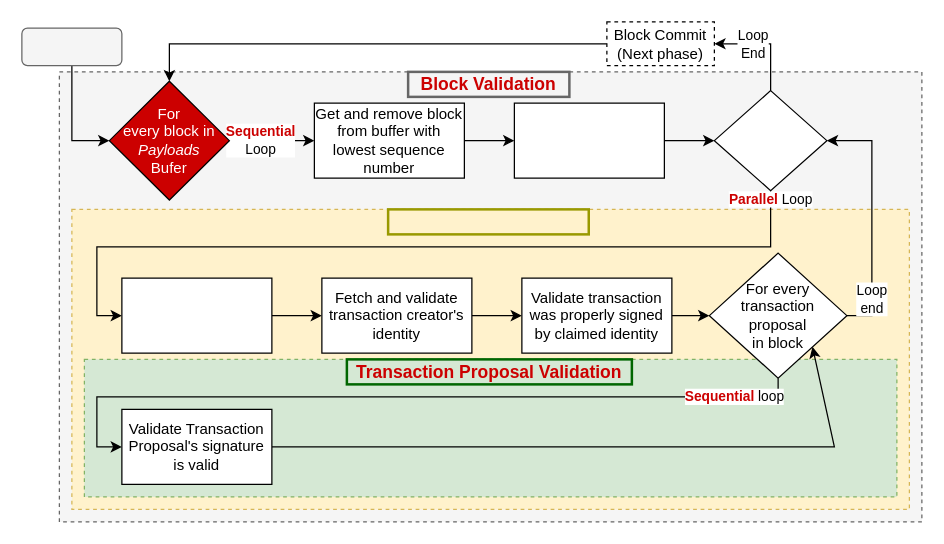
Some shapes in this 944 by 544 pixel diagram are drawn without their labels. The centre of each missing label's shape, as x and y in pixels:
For every transaction in block...: the point at 770,140
Peer joins channel: the point at 71,46
Transaction Validation: the point at 487,221
Unmarshal transaction and verify structure is valid: the point at 196,315
Validate block's header and data-fields are non-empty: the point at 588,140
